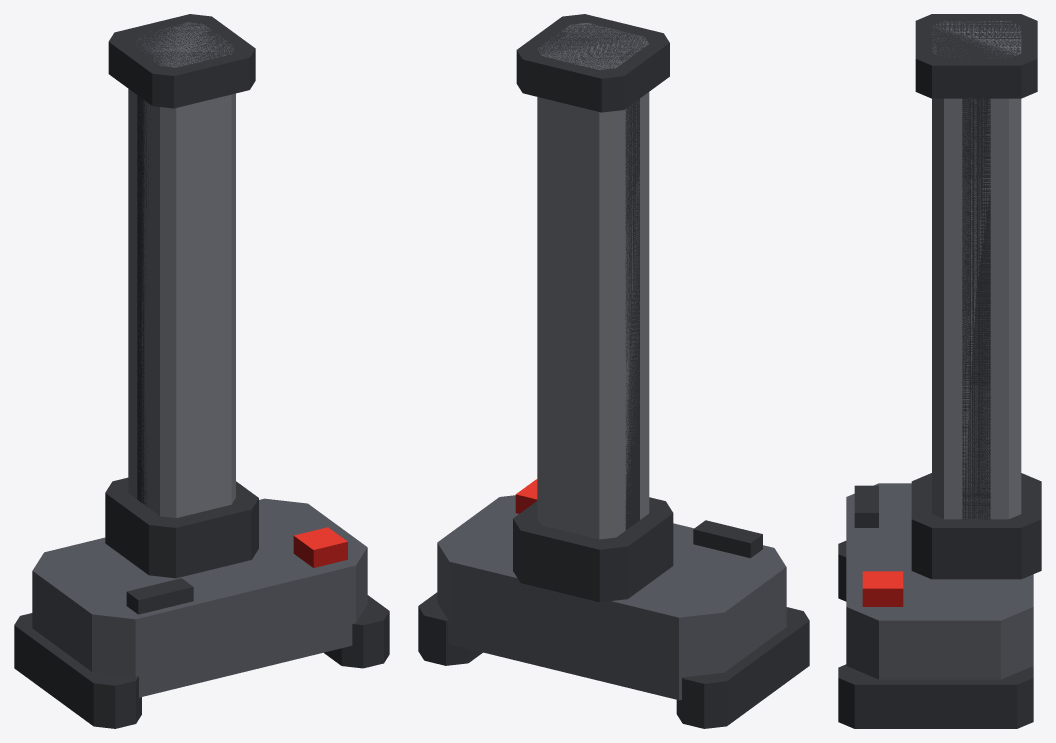
File: pz_lift_base.obj
The picture shows the model from 3 angles, left to right: view 1: azimuth 30°, elevation 25°; view 2: azimuth 150°, elevation 25°; view 3: azimuth 270°, elevation 25°; orthographic projection. The views are drawn at different scales.
Parts seen in each view (by area): view 1: pz_lift_base; view 2: pz_lift_base; view 3: pz_lift_base.
Part boxes in pixels (x1,y1,x2,y2): pz_lift_base: (14,14,389,728); pz_lift_base: (418,14,809,728); pz_lift_base: (838,14,1041,728).
Bounding box in the file's own units: 0.86 × 1.67 × 0.5.
